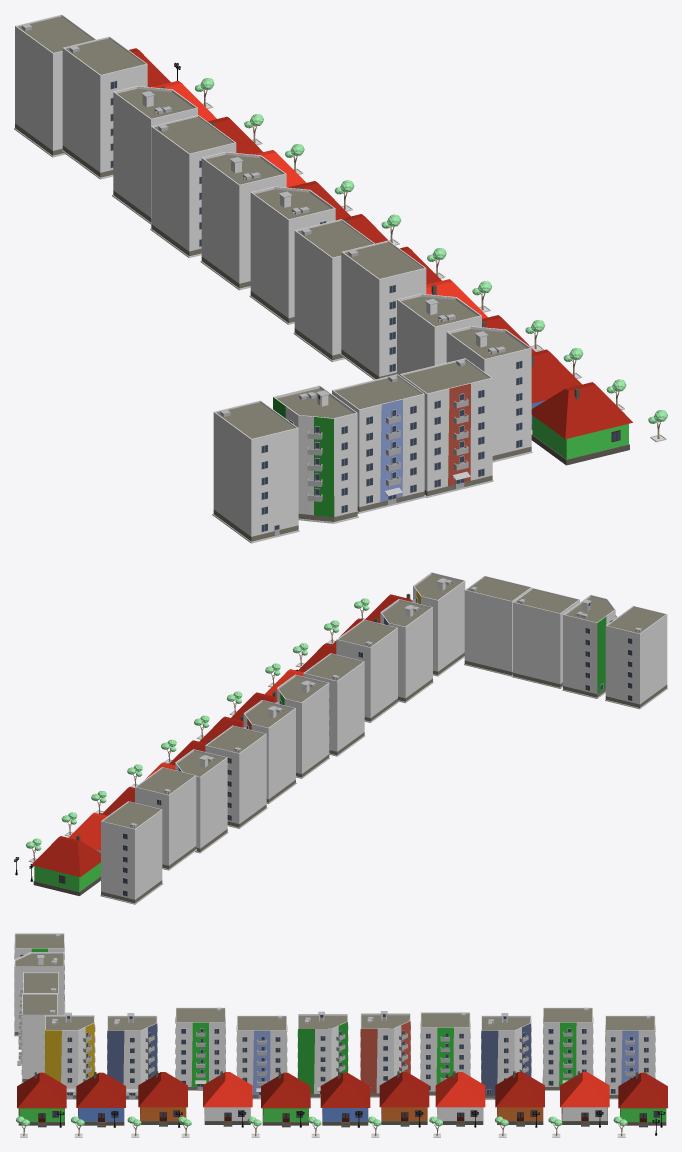
Rendered from items_city.fbx.
3 renders of one model, top to bottom at view 1: azimuth 30°, elevation 25°; view 2: azimuth 150°, elevation 25°; view 3: azimuth 270°, elevation 25°, orthographic. The views are drawn at different scales.
Visible parts, largest first — view 1: Cube.010; view 2: Cube.010; view 3: Cube.010.
Part boxes in pixels (bbox=[...]): Cube.010: bbox=[14, 14, 667, 543]; Cube.010: bbox=[14, 572, 667, 904]; Cube.010: bbox=[14, 933, 667, 1137].
Bounding box in the file's own units: 12905 × 3422 × 26115.
